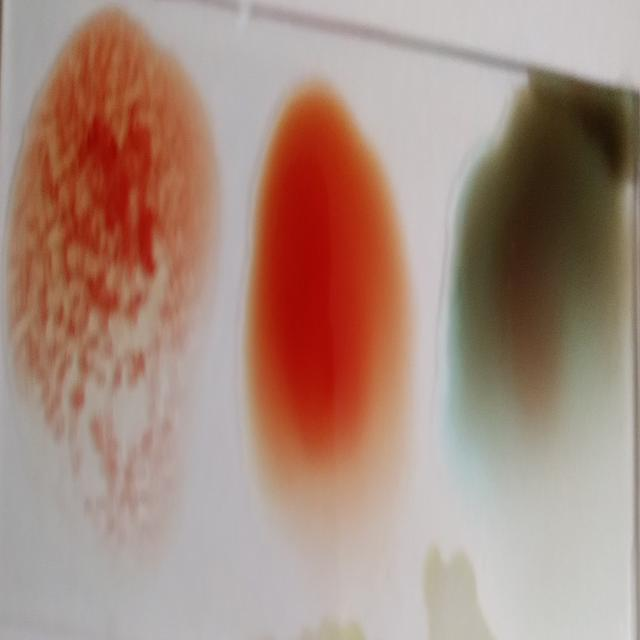D: (12, 32, 206, 501)
